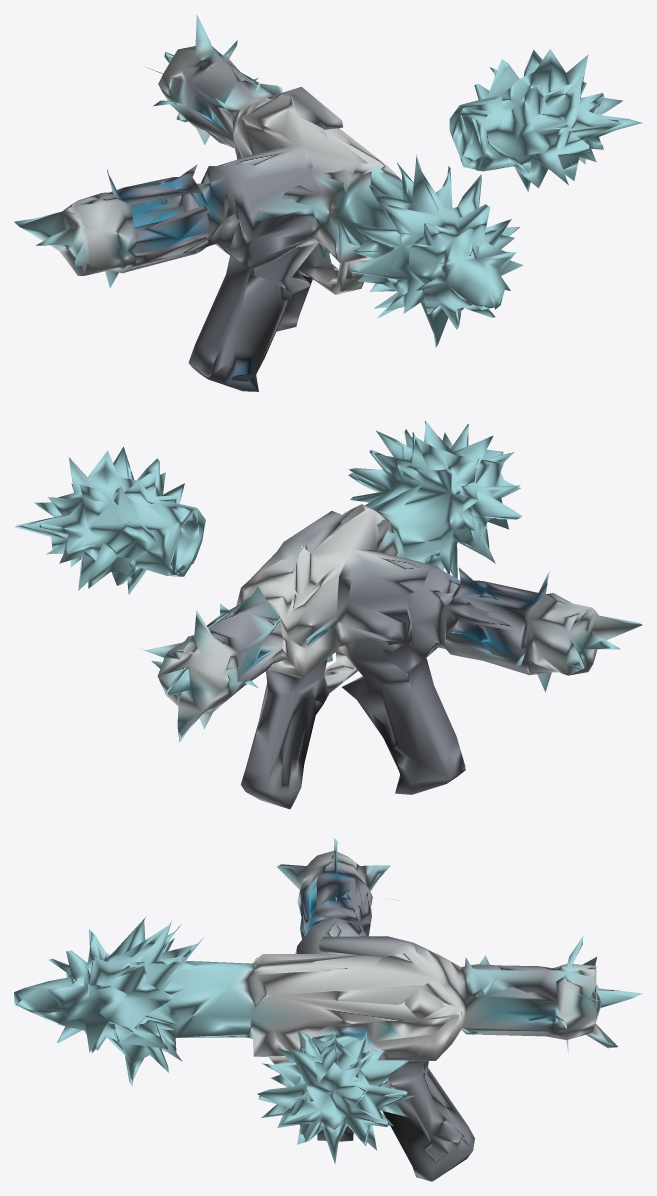
Rendered from gen3d-freeze-ray-lod0.glb.
The picture shows the model from 3 angles, top to bottom: view 1: azimuth 30°, elevation 25°; view 2: azimuth 150°, elevation 25°; view 3: azimuth 270°, elevation 25°; orthographic projection. The views are drawn at different scales.
Visible parts, largest first — view 1: part_0; view 2: part_0; view 3: part_0.
Boxes of the visible parts, x1,y1,x2,y2 form: part_0: (14,14,642,391); part_0: (14,420,642,809); part_0: (14,838,642,1181).
Bounding box in the file's own units: 2.22 × 0.9907 × 2.18.
